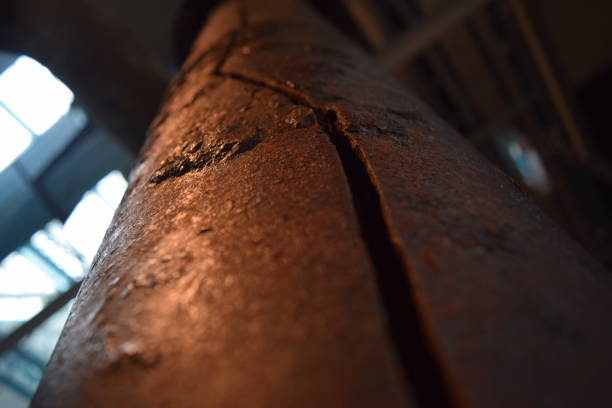crack: (304, 103, 482, 403), (203, 12, 310, 110)
